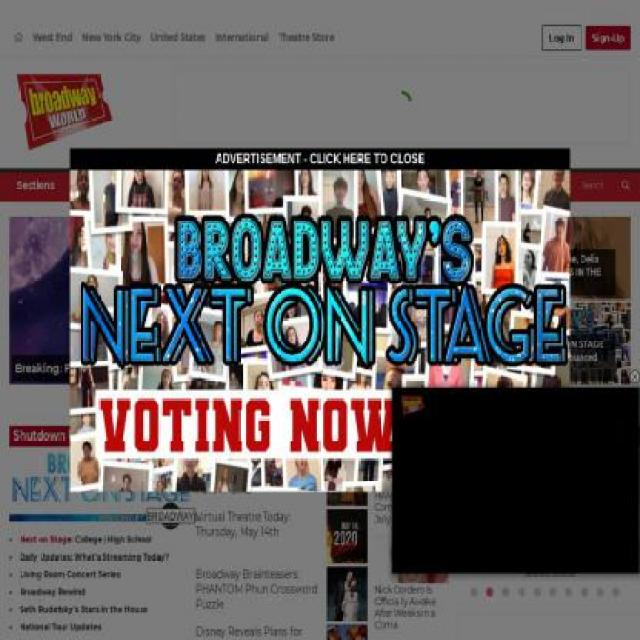button: (9, 213, 320, 385), (455, 448, 640, 582), (319, 298, 476, 385), (475, 298, 631, 385), (319, 213, 476, 299), (475, 213, 631, 299), (192, 451, 368, 507), (192, 509, 368, 565), (192, 566, 368, 622), (192, 624, 368, 639), (118, 171, 193, 206), (77, 18, 146, 56), (144, 18, 210, 56), (273, 18, 339, 56), (209, 18, 274, 56), (350, 171, 415, 206), (234, 171, 295, 206), (9, 171, 68, 206), (295, 171, 351, 206), (27, 18, 78, 56), (68, 171, 119, 206), (630, 213, 639, 385), (192, 171, 235, 206), (9, 18, 28, 57), (586, 30, 631, 44), (620, 162, 631, 208), (532, 587, 542, 598), (486, 587, 494, 598), (549, 587, 557, 598), (596, 587, 604, 598), (471, 587, 478, 598), (502, 587, 509, 598), (518, 587, 525, 598), (565, 587, 572, 598), (581, 587, 588, 598), (612, 587, 619, 598)
field: (580, 162, 631, 208)
